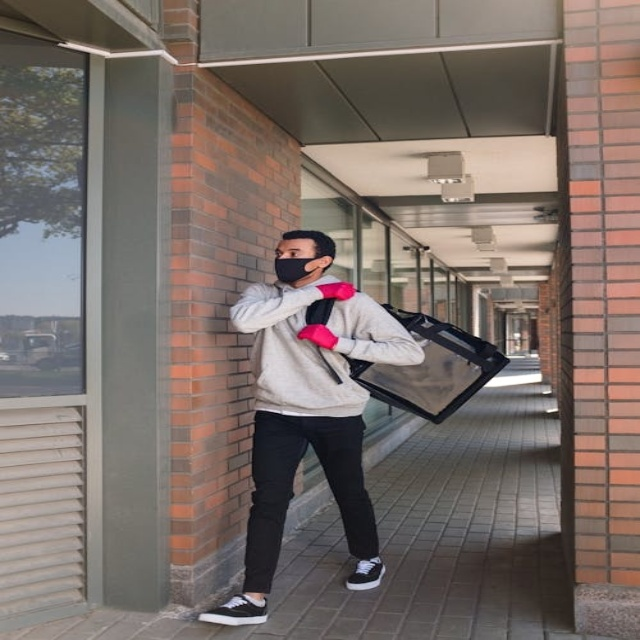Guantes: (297, 324, 340, 350), (315, 282, 356, 301)
Mascara: (275, 256, 325, 282)
Sin_gafas: (275, 249, 316, 258)
